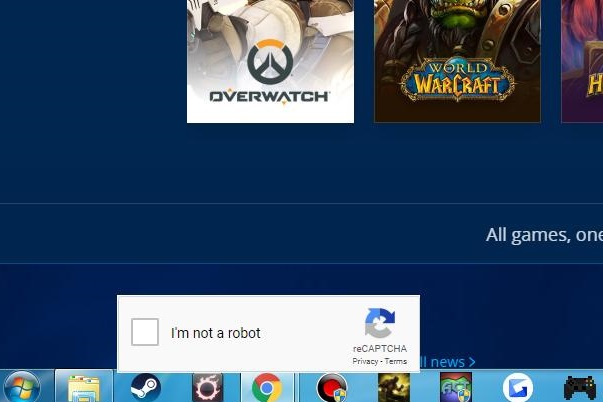captcha: (132, 318, 261, 346)
